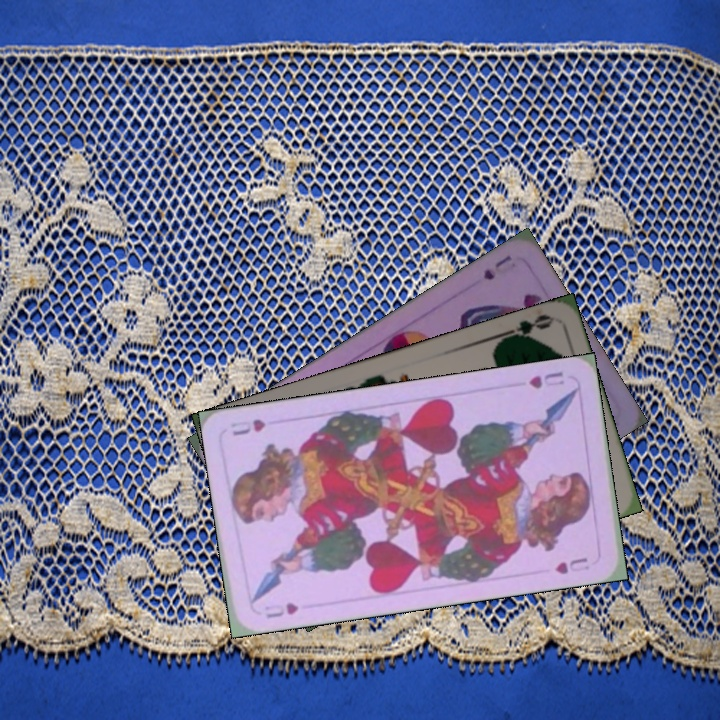GO: (496, 310, 555, 344)
HU: (524, 367, 567, 392), (260, 598, 301, 621)
SU: (478, 251, 515, 283)
